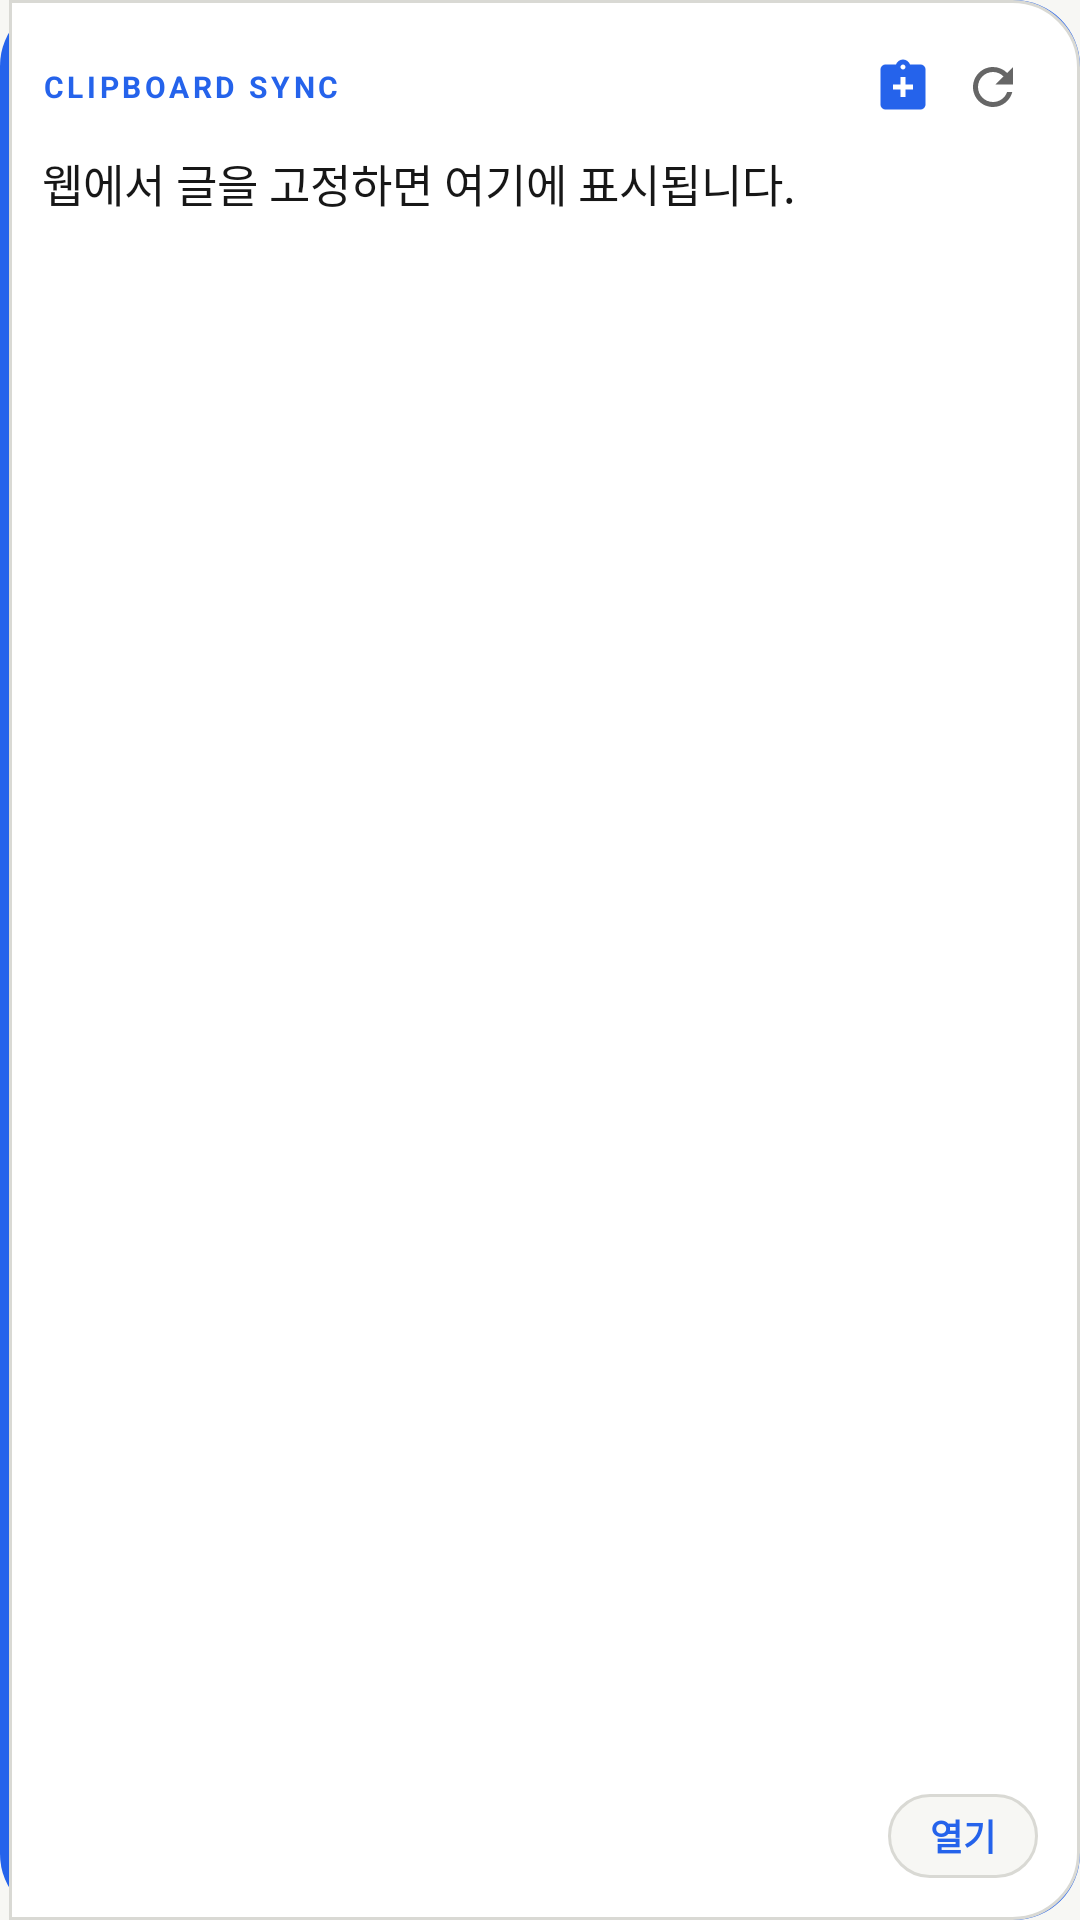

Point at icon controls on the screen. Image size 1080×1920, points as [x,y].
새로 고침: [993,87]
클립보드 저장: [903,84]
